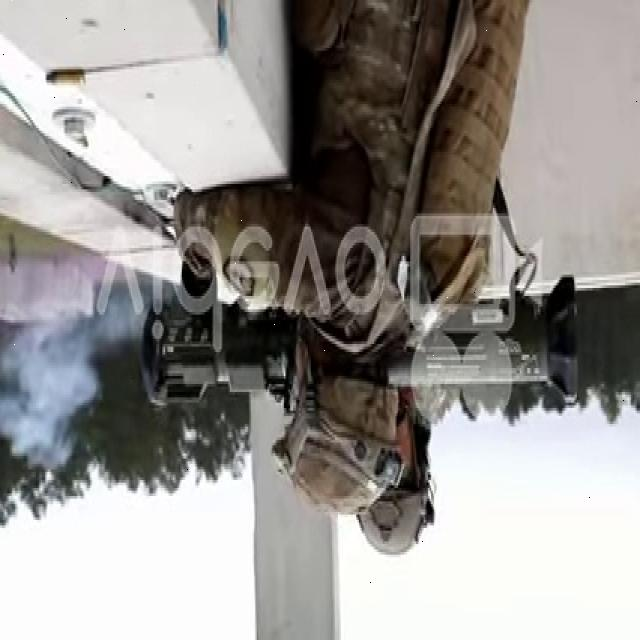bazooka: (142, 260, 587, 412)
